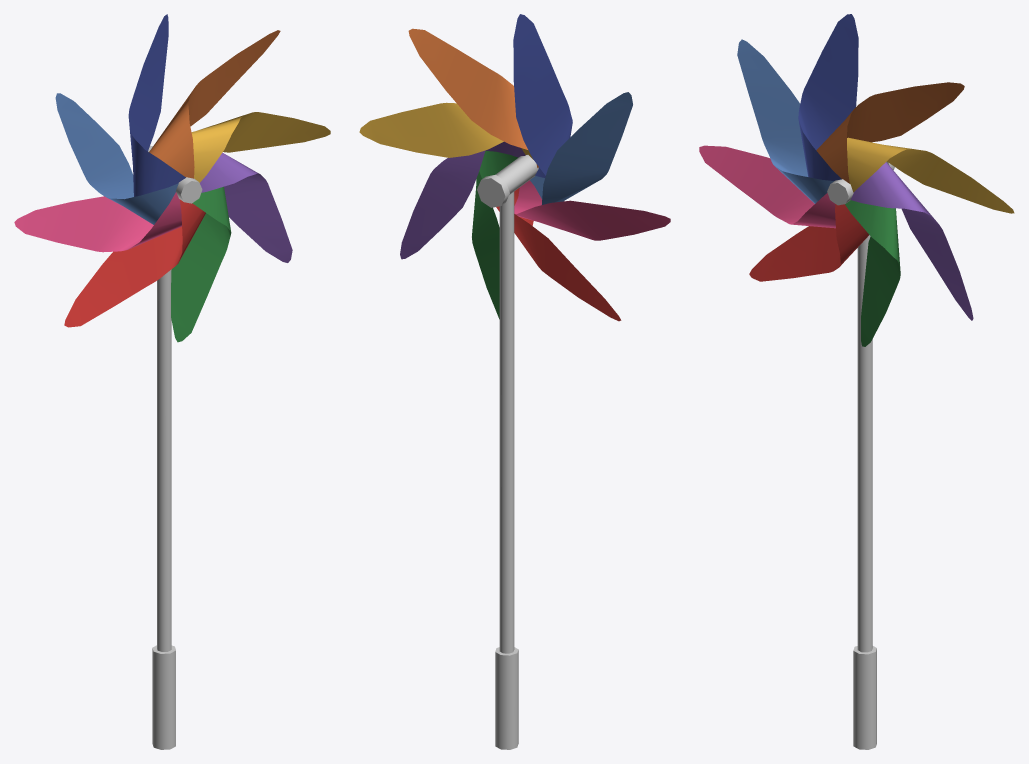
File: WindWheel_01.fbx
The picture shows the model from 3 angles, left to right: view 1: azimuth 30°, elevation 25°; view 2: azimuth 150°, elevation 25°; view 3: azimuth 330°, elevation 25°; orthographic projection.
Visible parts, largest first — view 1: WindWheel_01_Wheel, WindWheel_01; view 2: WindWheel_01_Wheel, WindWheel_01; view 3: WindWheel_01_Wheel, WindWheel_01.
Part boxes in pixels (left/top/right/bottom): WindWheel_01_Wheel: left=14, top=14, right=330, bottom=342; WindWheel_01: left=148, top=145, right=202, bottom=749; WindWheel_01_Wheel: left=359, top=14, right=670, bottom=321; WindWheel_01: left=477, top=155, right=538, bottom=749; WindWheel_01_Wheel: left=699, top=14, right=1014, bottom=346; WindWheel_01: left=827, top=161, right=894, bottom=749.
Size of the model in its own units: 0.3024 by 0.6745 by 0.0718.
